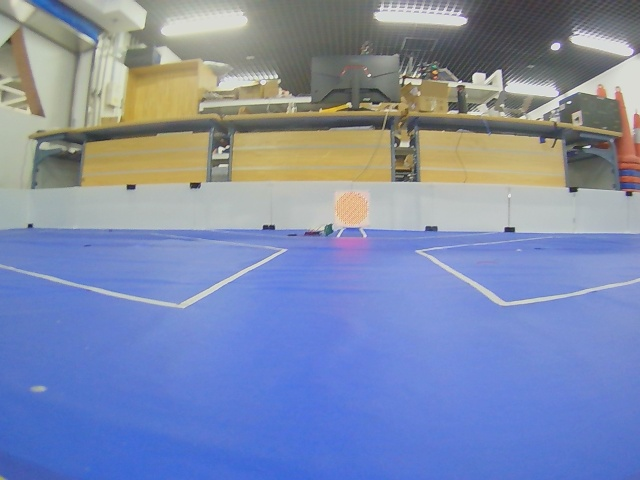red: (334, 191, 369, 227)
